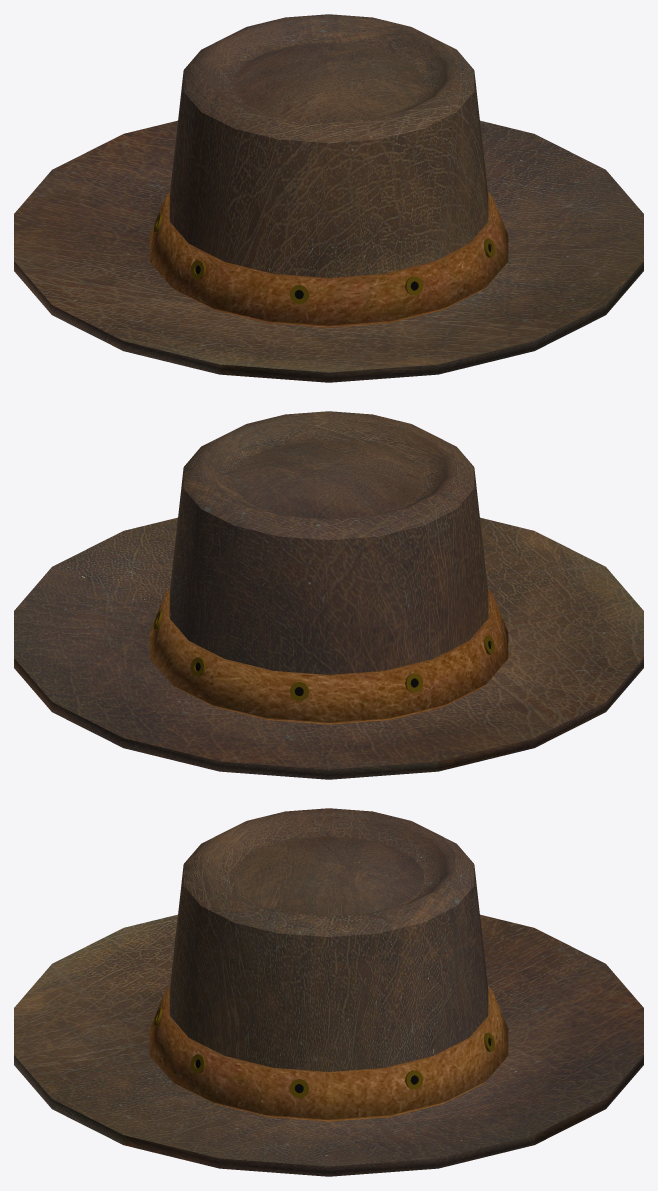
File: Cowboy Hat.FBX
3 renders of one model, top to bottom at view 1: azimuth 30°, elevation 25°; view 2: azimuth 150°, elevation 25°; view 3: azimuth 270°, elevation 25°, orthographic.
Parts seen in each view (by area): view 1: Hat; view 2: Hat; view 3: Hat.
Boxes of the visible parts, <box> form: Hat: <box>14,14,643,382</box>; Hat: <box>14,411,643,779</box>; Hat: <box>14,808,643,1176</box>.
Bounding box in the file's own units: 662 × 236 × 652.
